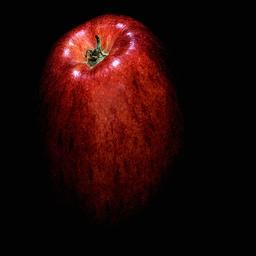apple: (32, 13, 184, 224)
